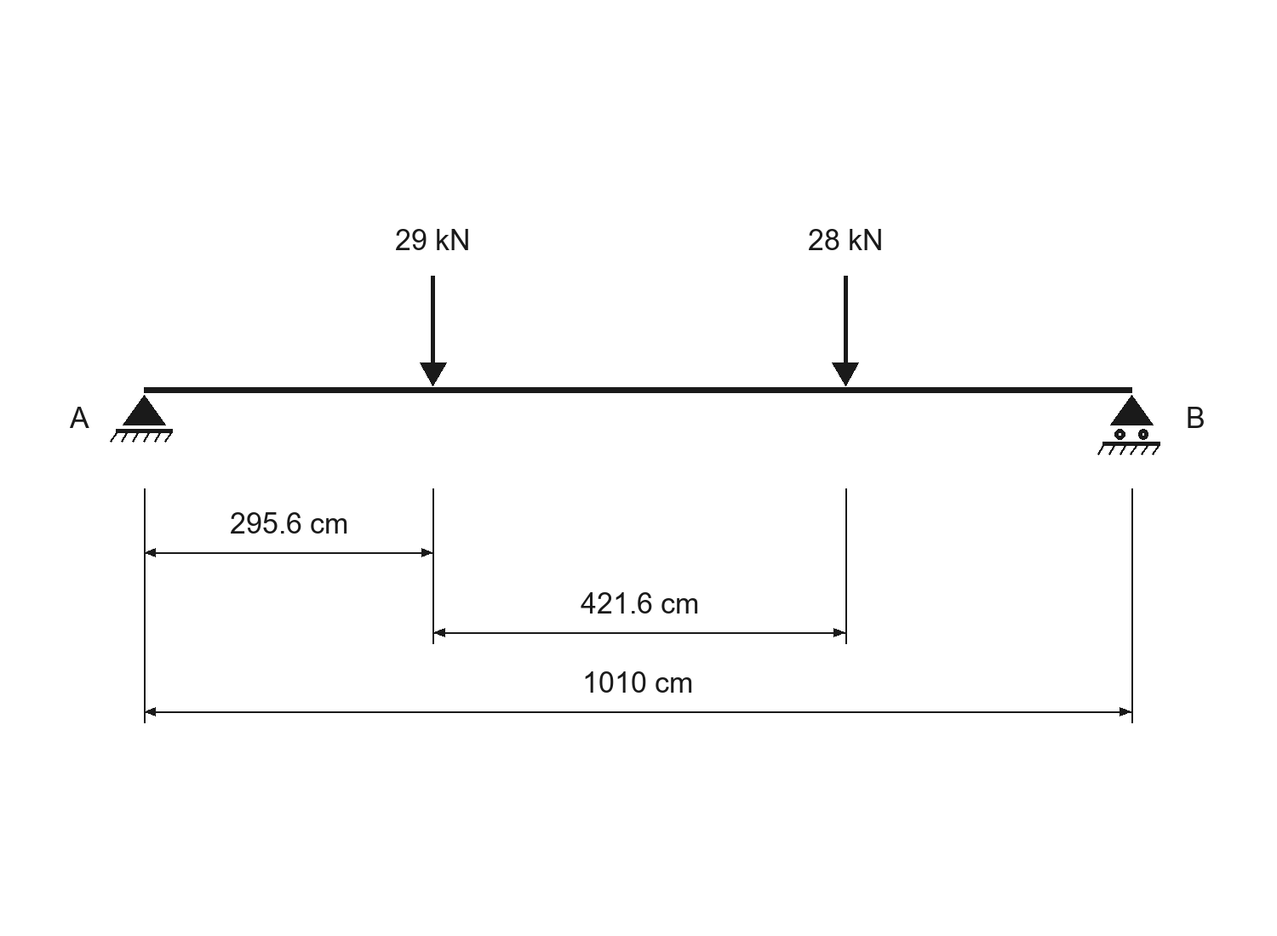pin_support: (110, 395, 173, 442)
point_load: (420, 276, 447, 386), (832, 276, 859, 386)
roller_support: (1097, 395, 1160, 455)
